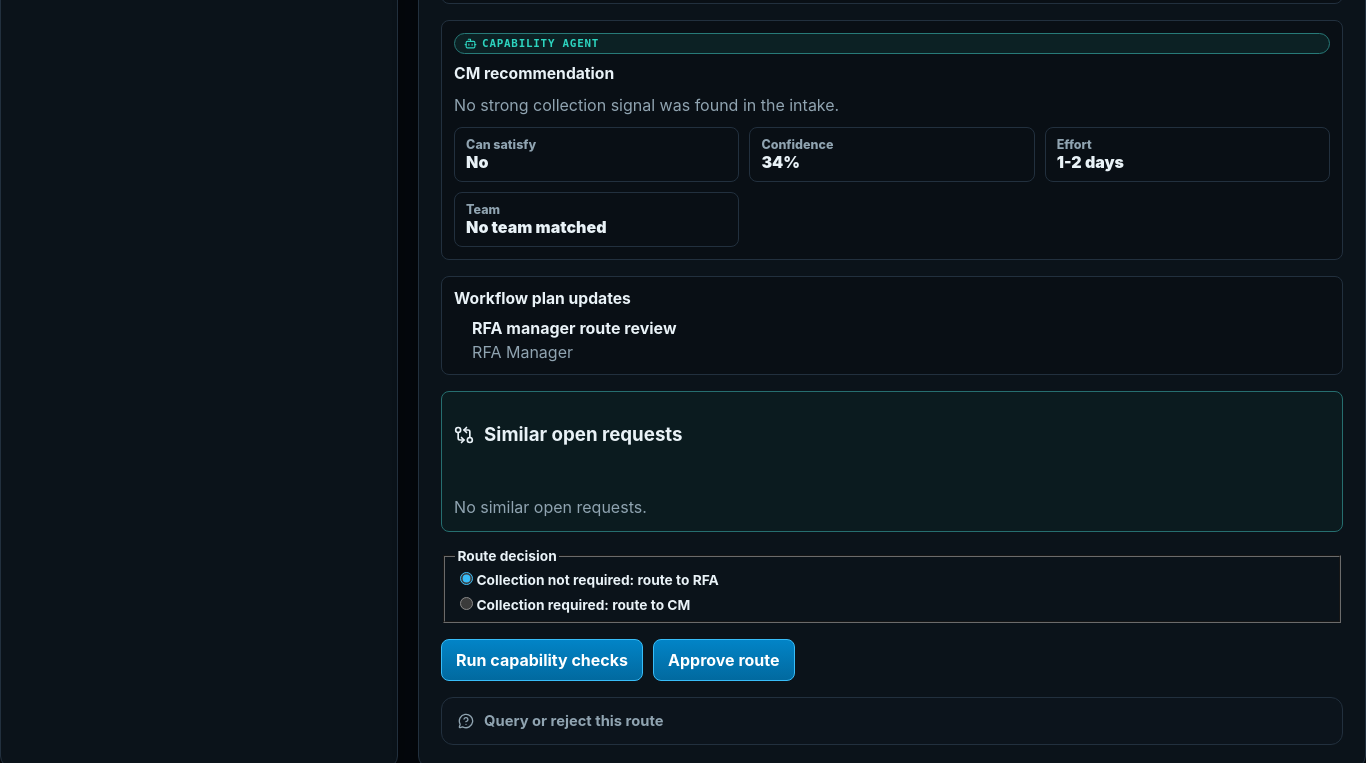
shows route action failures inline
(page scrolled)
What coordinates should you click on to do the following:
click the button "Approve route"
I would click on:
 (724, 660)
Its box is [653,639,794,681].
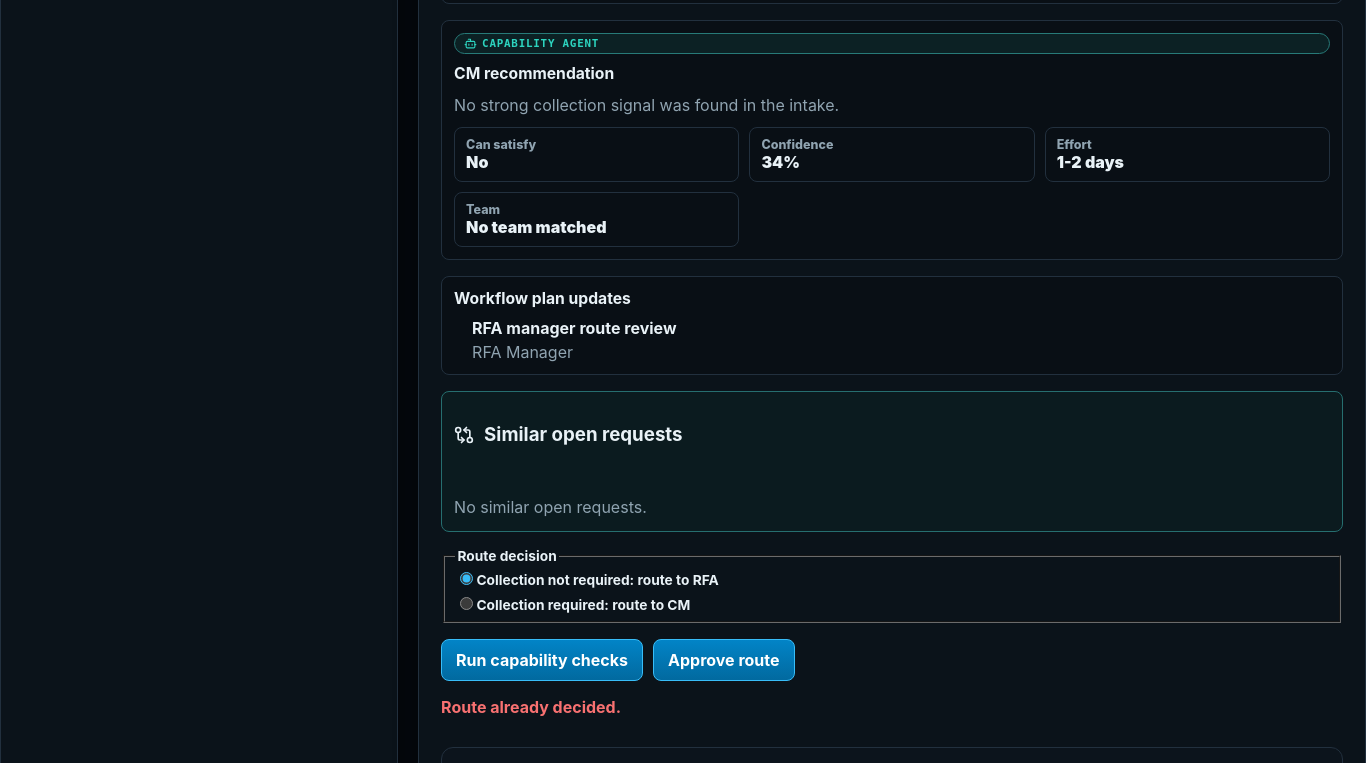
expect the message reads "Route already decided.": met, box [441,697,621,717]
